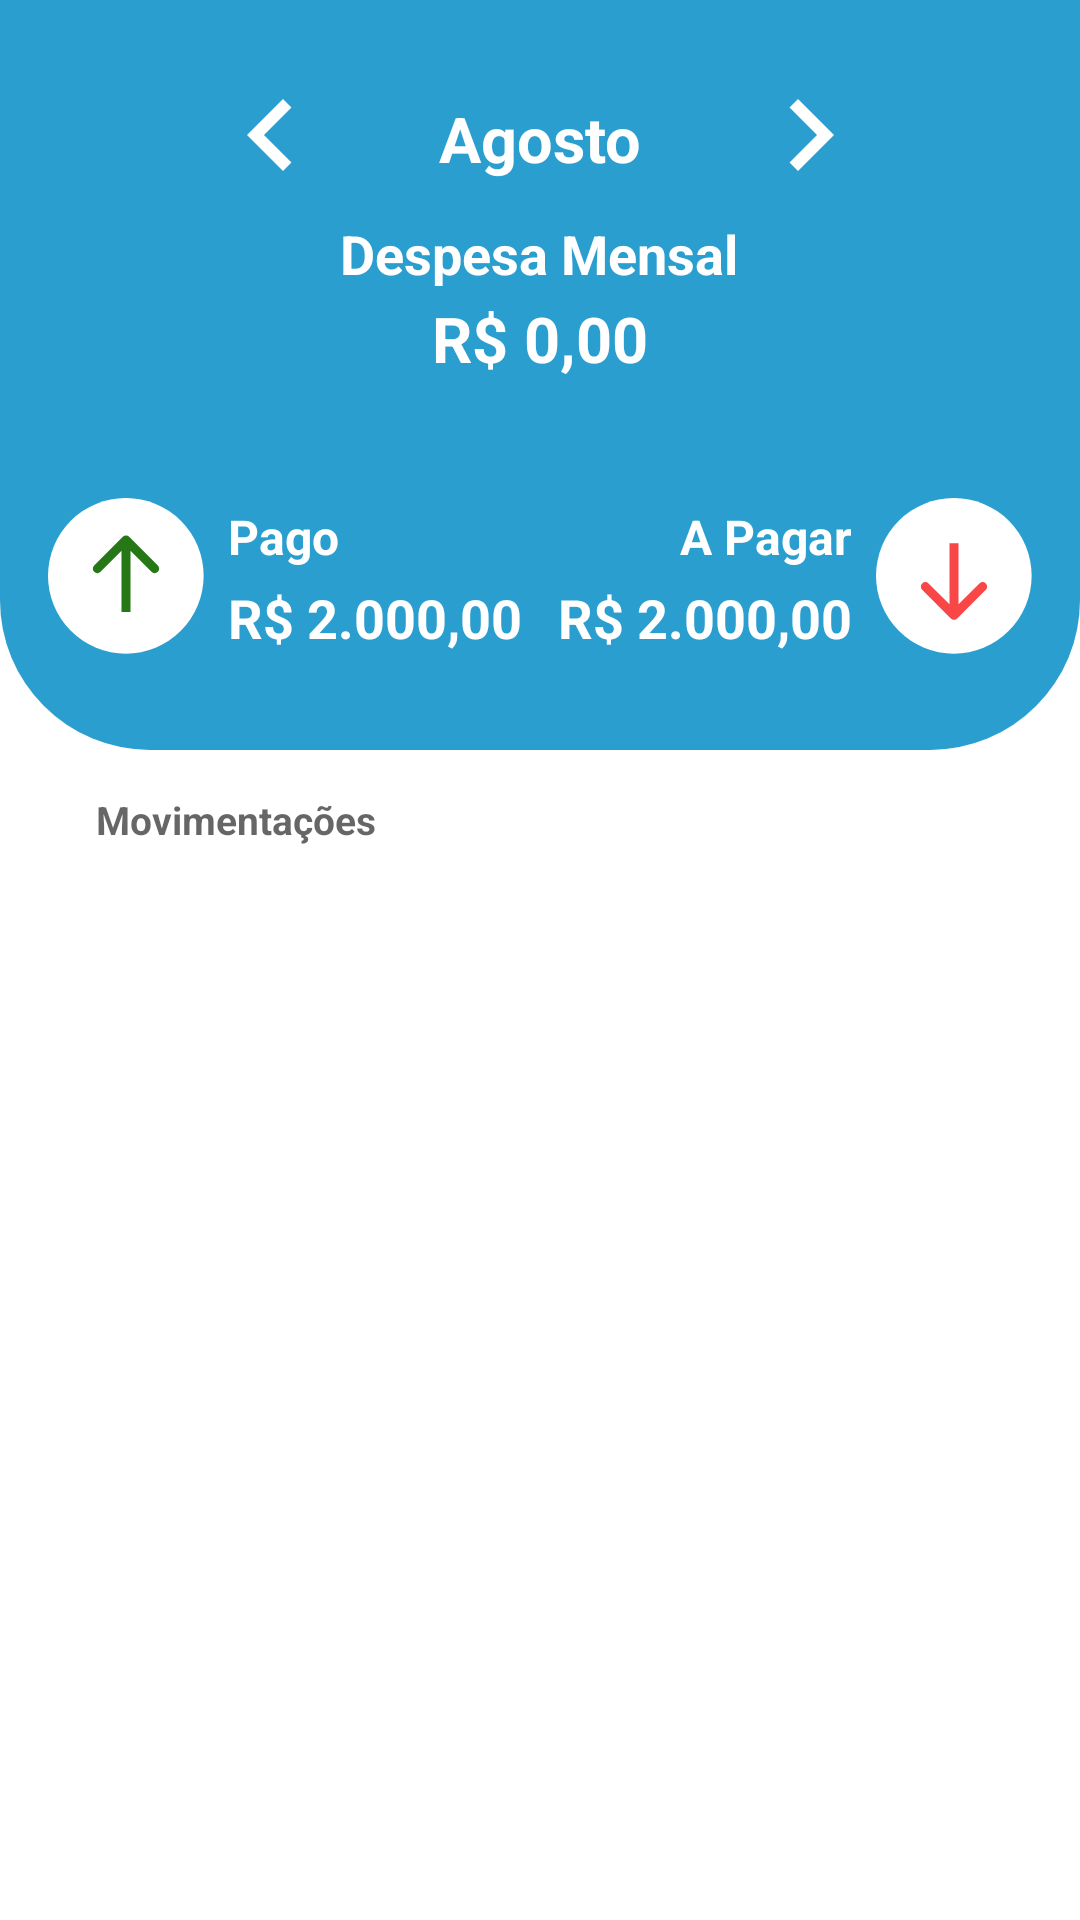

Locate icon controls on the screen. Image size 1080x1920, boxes as (left=x1, top=y1, right=x2, bottom=y2).
Botão mês anterior: (left=247, top=99, right=292, bottom=171)
Botão próximo mês: (left=789, top=99, right=834, bottom=171)
paid: (left=48, top=498, right=204, bottom=654)
payable: (left=876, top=498, right=1032, bottom=654)
